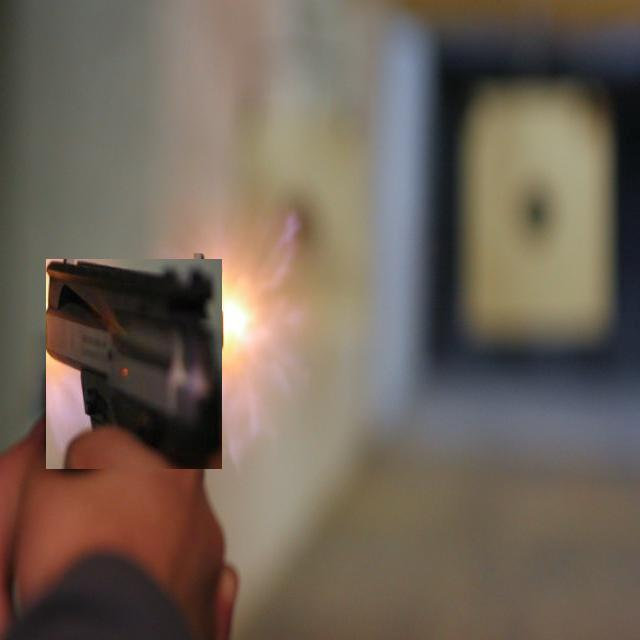Gun: (46, 259, 222, 469)
